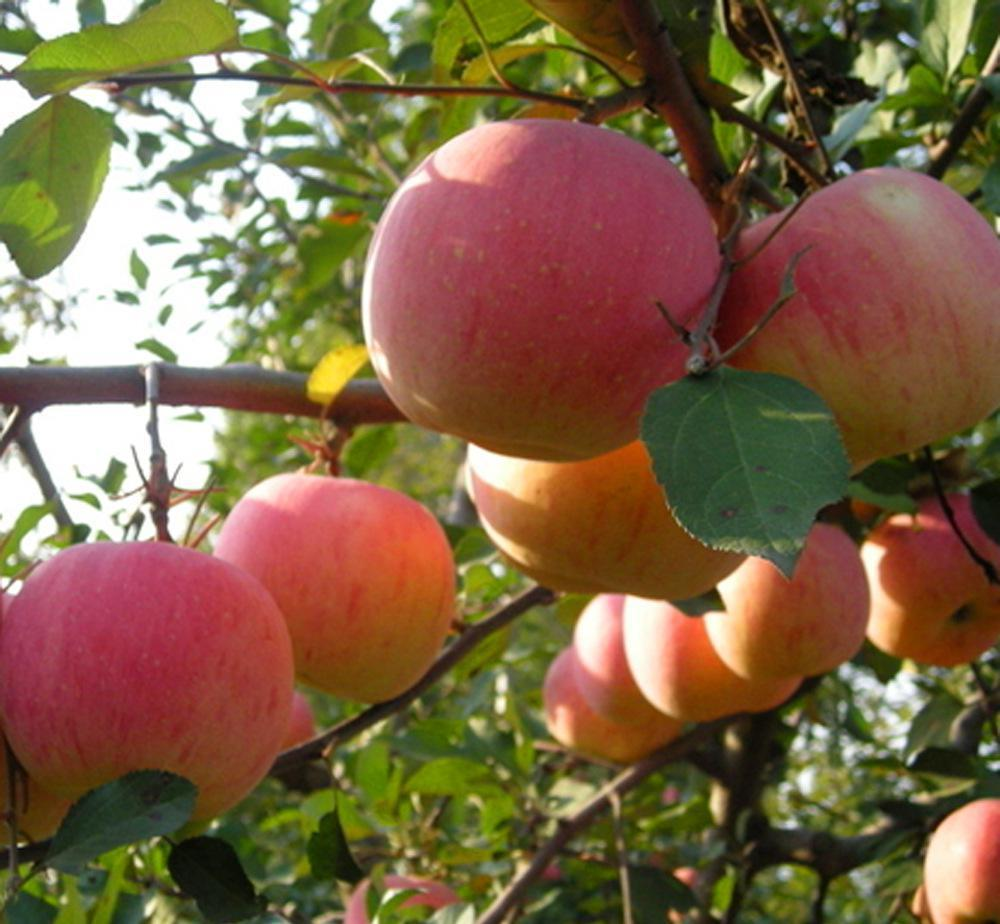apple: (360, 117, 731, 458), (6, 541, 315, 843), (690, 164, 995, 463), (212, 470, 460, 701), (717, 518, 874, 695), (857, 501, 996, 666), (919, 796, 1000, 924)
